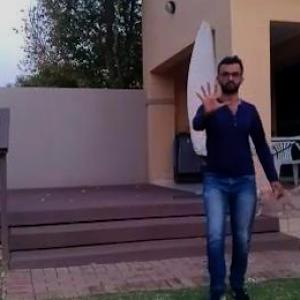follow_hand: (191, 75, 232, 120)
